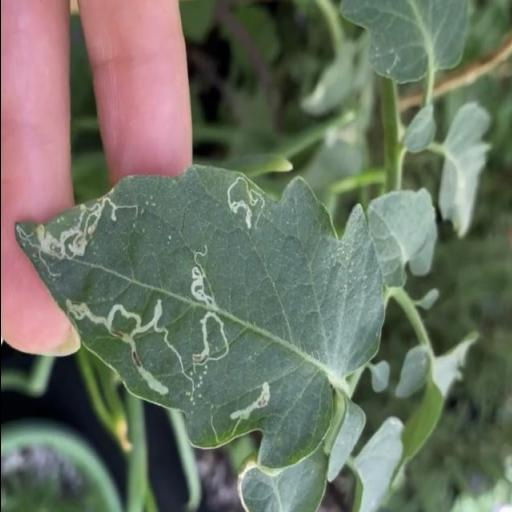disease_tomato: (15, 161, 388, 472)
